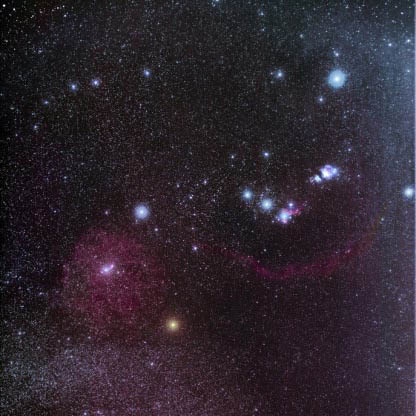Orion: (320, 62, 355, 96), (157, 310, 187, 342), (129, 198, 158, 231), (391, 174, 416, 209), (253, 192, 278, 215), (277, 207, 298, 230), (237, 182, 252, 203)
